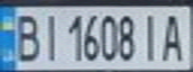0: (100, 10, 121, 62)
1: (63, 10, 84, 62)
6: (81, 10, 103, 62)
8: (115, 10, 139, 62)
A: (157, 10, 190, 62)
B: (9, 10, 42, 63)
I: (36, 9, 63, 62), (139, 10, 163, 62)
